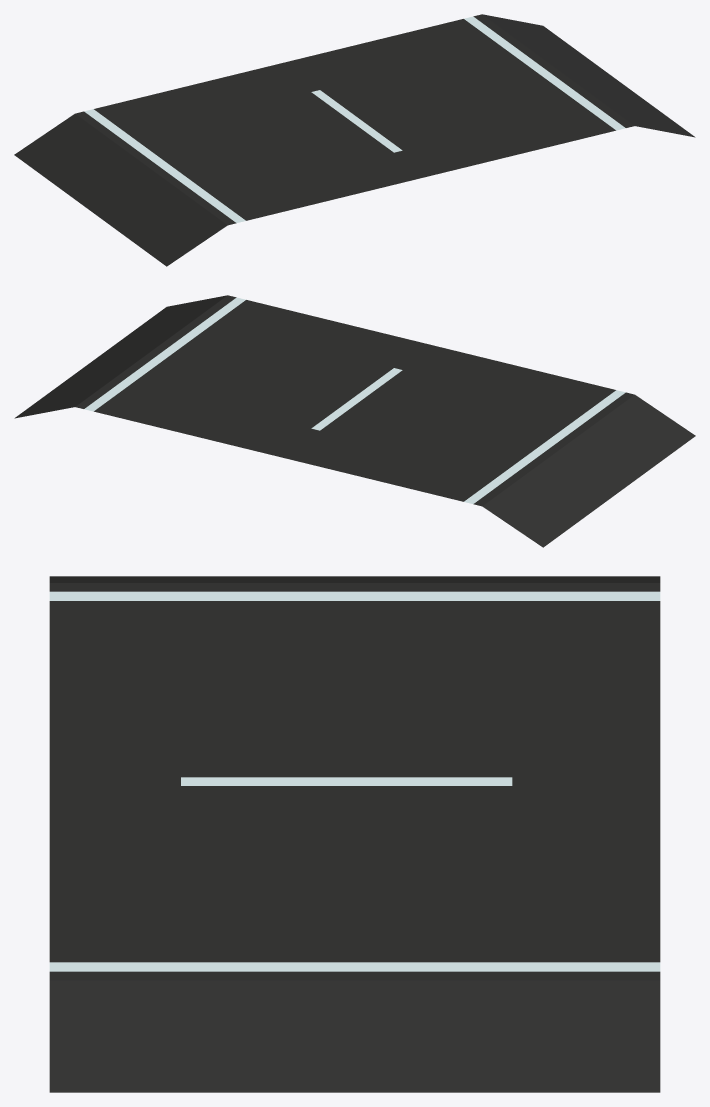
File: road_1.fbx
The picture shows the model from 3 angles, top to bottom: view 1: azimuth 30°, elevation 25°; view 2: azimuth 150°, elevation 25°; view 3: azimuth 270°, elevation 25°; orthographic projection. The views are drawn at different scales.
Parts seen in each view (by area): view 1: Plane.003; view 2: Plane.003; view 3: Plane.003.
Boxes of the visible parts, <box> form: Plane.003: <box>14,14,695,266</box>; Plane.003: <box>14,295,695,547</box>; Plane.003: <box>49,576,660,1092</box>.
Bounding box in the file's own units: 400 × 19.08 × 200.
Materials: 1 (1 with a texture image).
